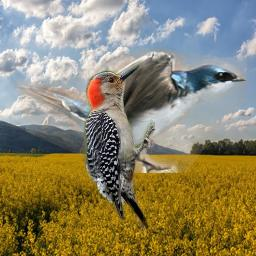Swallow: (14, 48, 247, 173)
Woodpecker: (78, 60, 155, 243)
